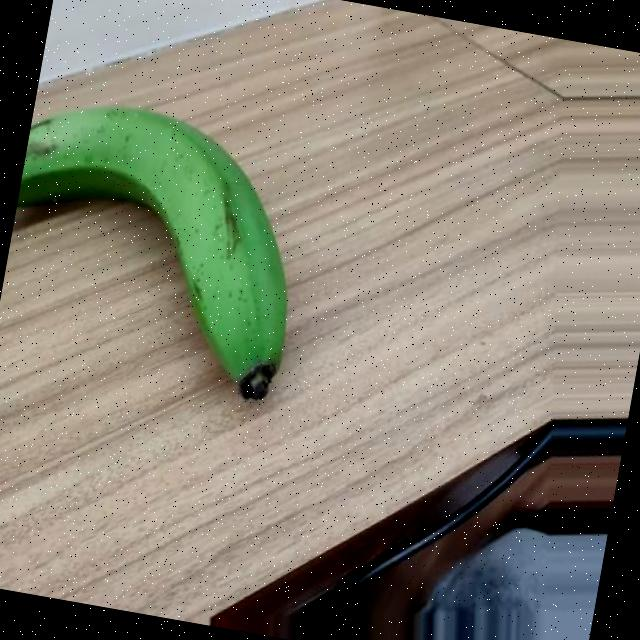Unripe: (0, 88, 318, 403)
